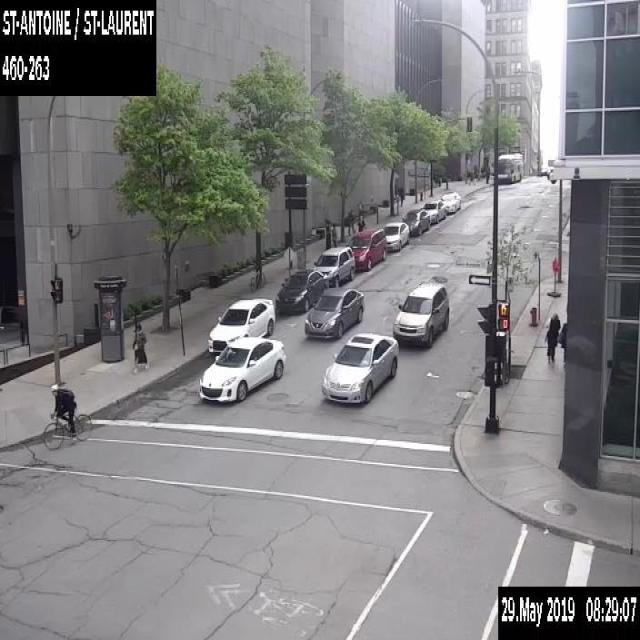bus: (496, 152, 524, 184)
construction: (546, 256, 560, 297)
cyclist: (42, 381, 93, 451)
pedestrian: (132, 323, 149, 373), (544, 322, 557, 362), (558, 322, 566, 362), (347, 209, 355, 235), (549, 312, 560, 328), (356, 213, 364, 231), (331, 222, 336, 245), (468, 167, 474, 185), (484, 163, 489, 182), (399, 188, 403, 205)
vehicle: (199, 336, 285, 402), (321, 331, 398, 403), (208, 296, 275, 353), (392, 281, 449, 347), (304, 286, 364, 338), (276, 268, 328, 310), (313, 246, 354, 286), (349, 227, 386, 270), (401, 207, 430, 235), (382, 221, 409, 250), (421, 198, 446, 222), (438, 190, 461, 214)
